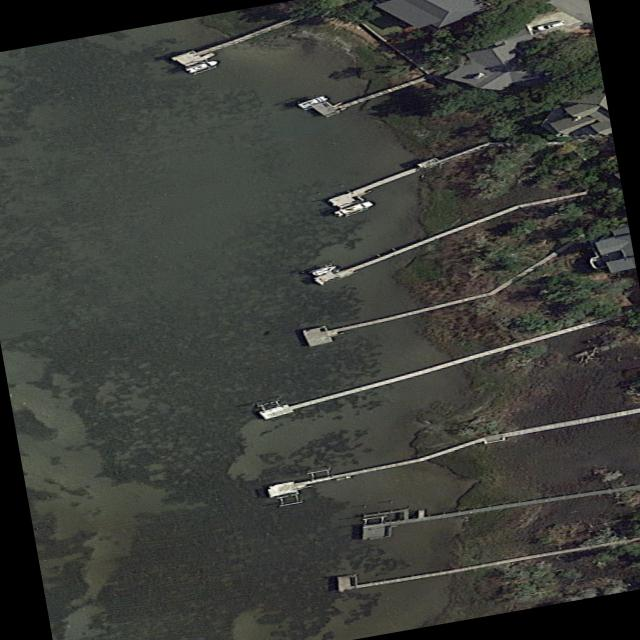ship: (330, 199, 378, 217), (181, 58, 220, 74), (306, 262, 344, 277), (295, 94, 331, 109)
small-vehicle: (536, 19, 567, 31)
